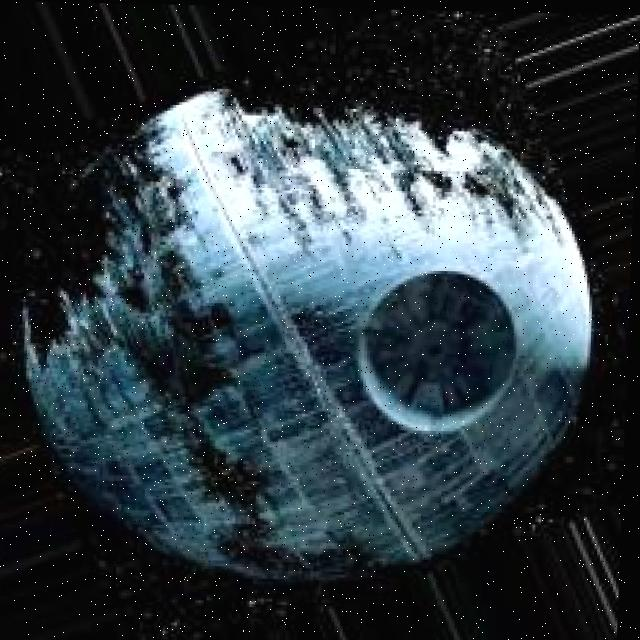deathstar: (11, 86, 600, 581)
